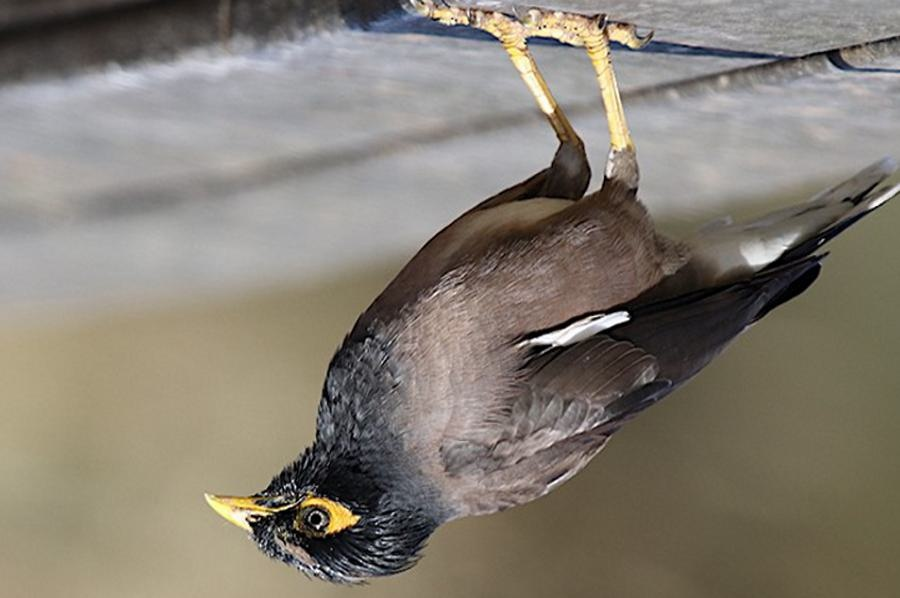myna: (201, 111, 798, 577)
